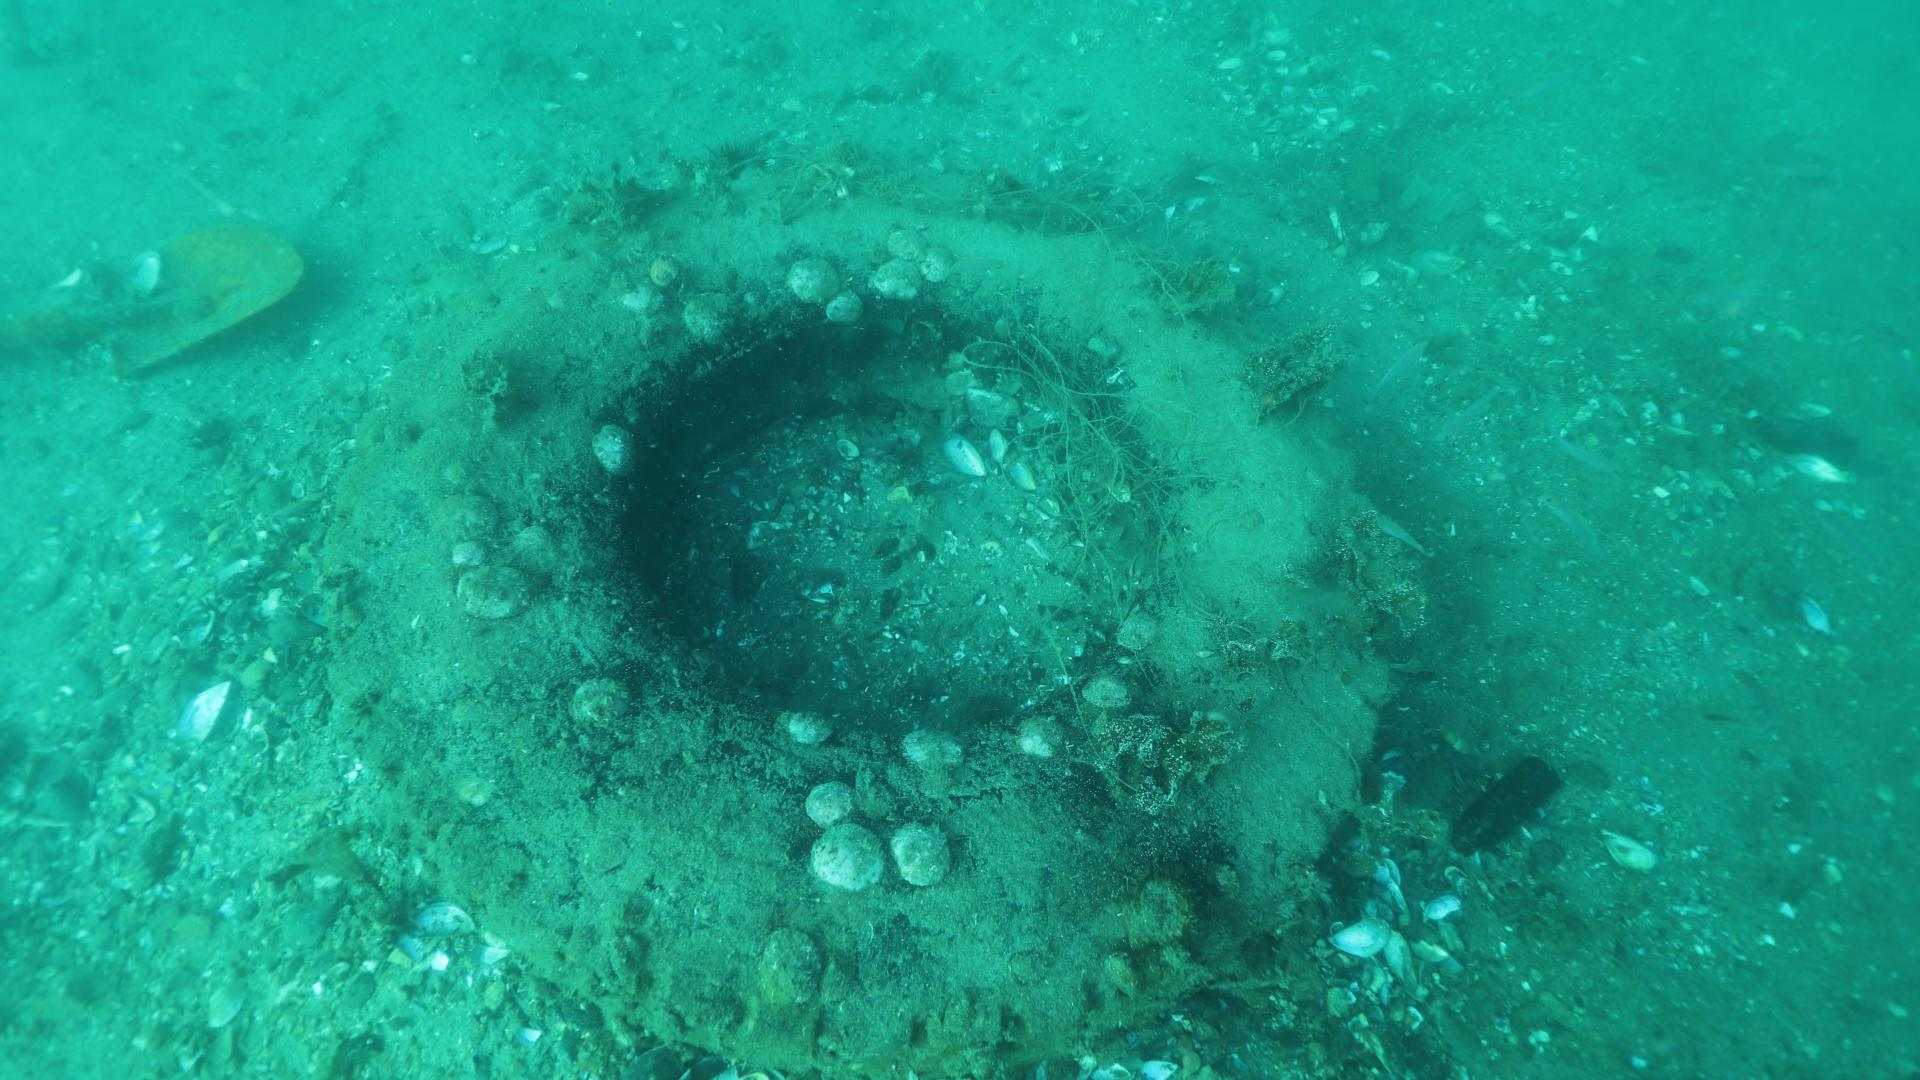tire: (381, 200, 1386, 1062)
